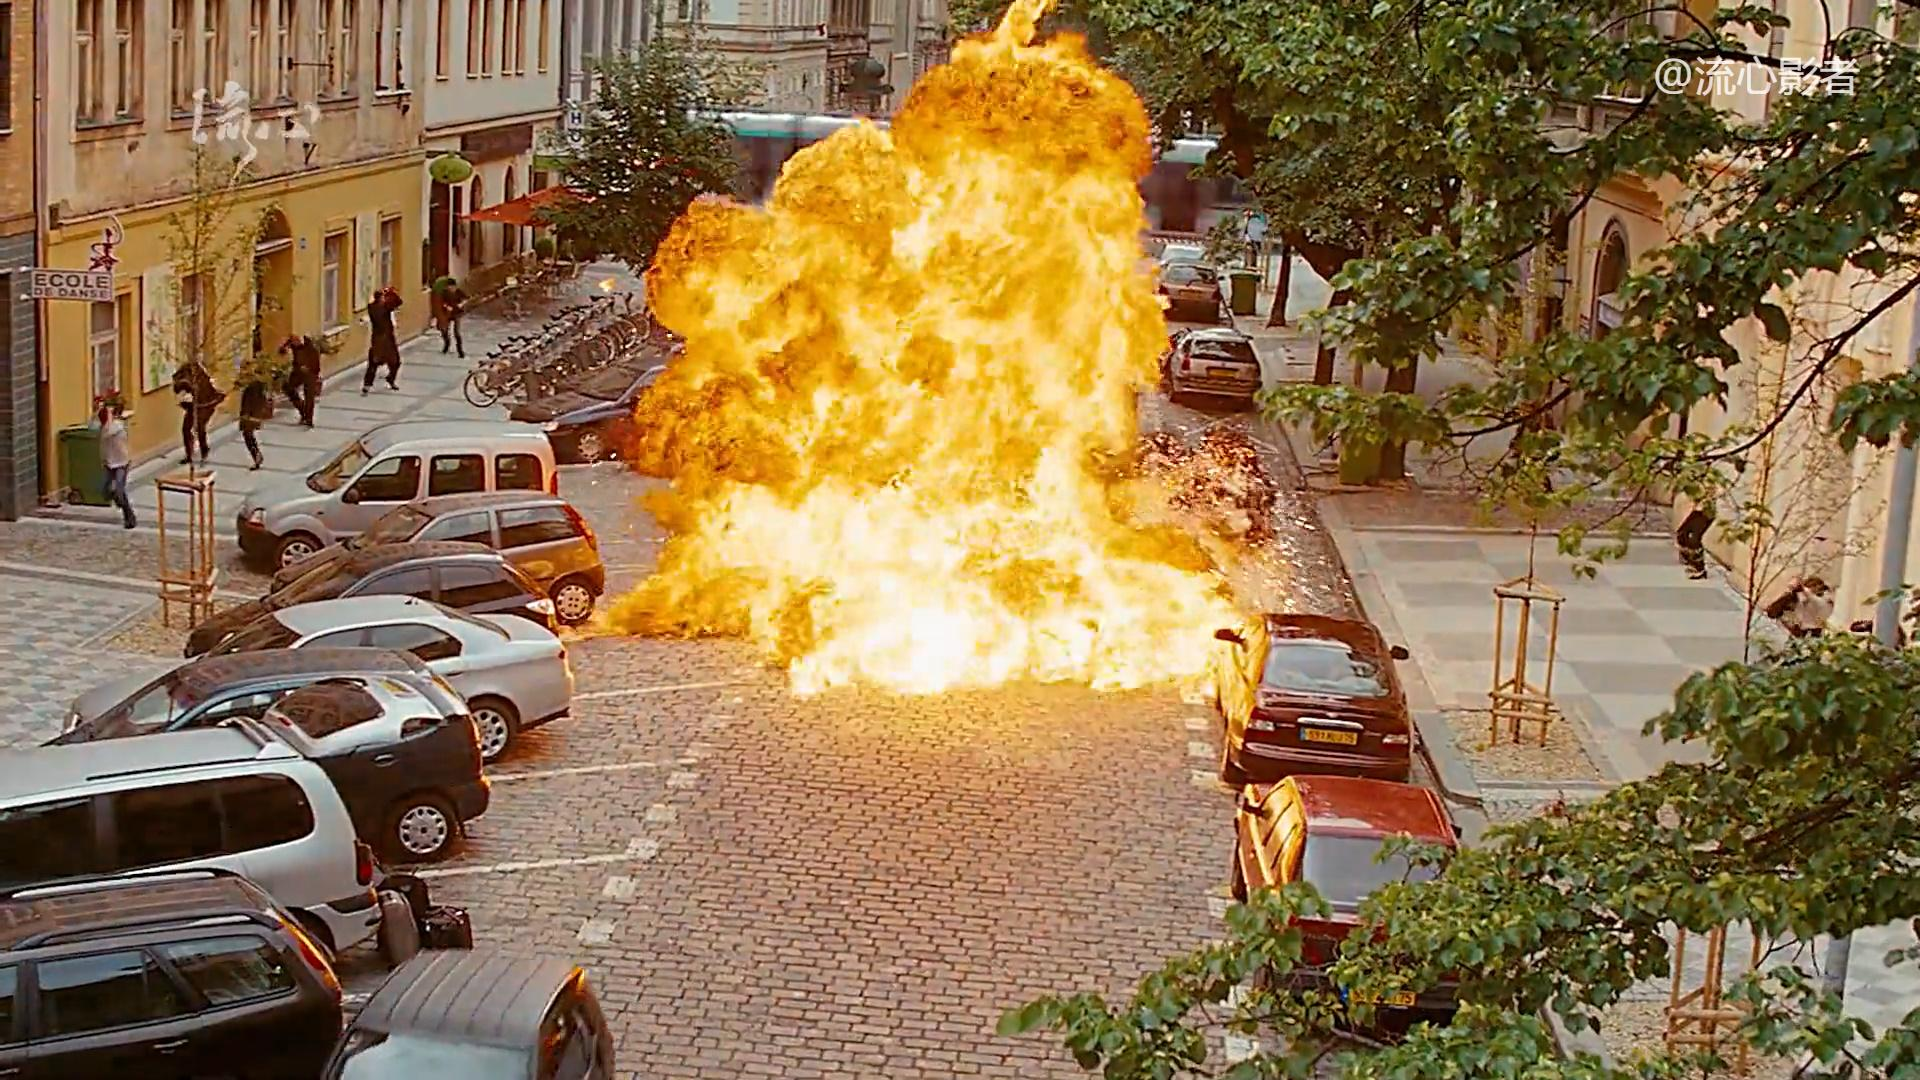fire: (576, 0, 1265, 716)
